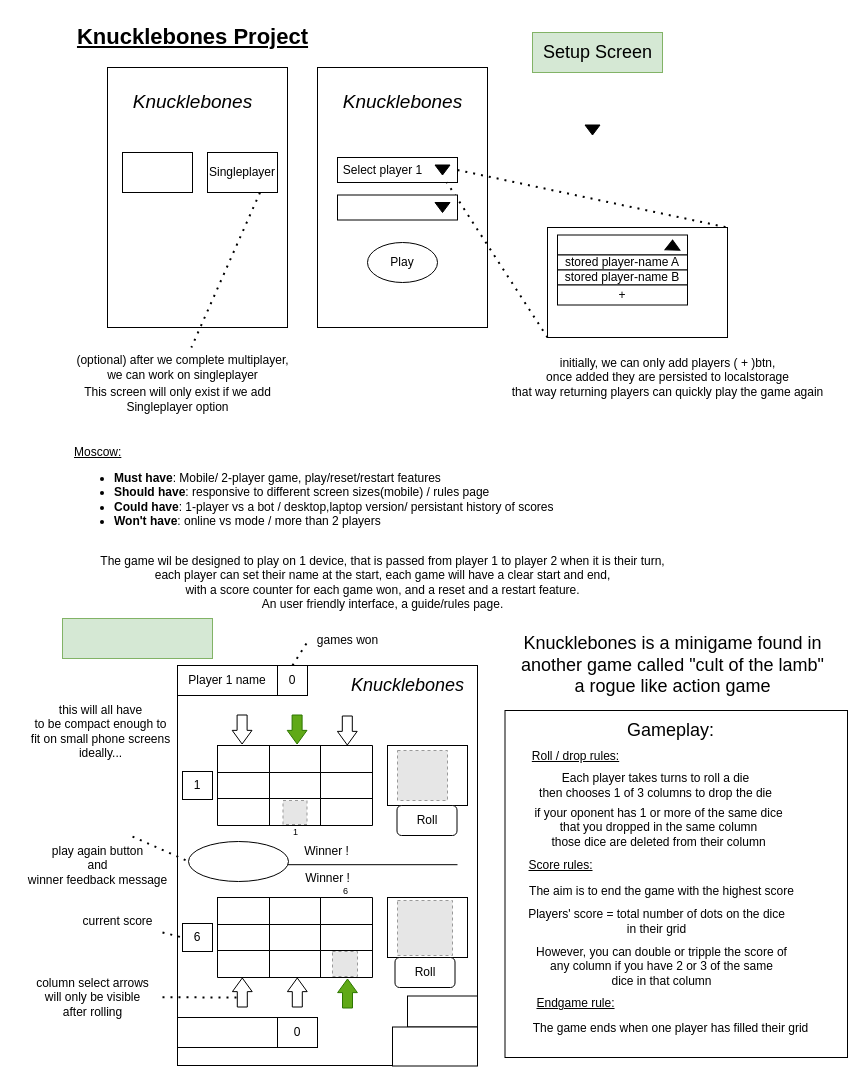
The diagram is 865 pixels wide and 1083 high, and some of its shapes have lost their labels. Grey dashed boxes stand in for pictures. The box of each missing label's shape, as (x1, y1, x2, y2) in pixels:
Game Screen: (62, 618, 212, 658)
Multiplayer: (122, 152, 192, 192)
Play/Replay: (188, 840, 288, 882)
Player 2 name: (176, 1016, 278, 1048)
Reset: (406, 995, 478, 1027)
Return (end game): (392, 1026, 478, 1066)
Select player 2: (336, 194, 458, 220)
